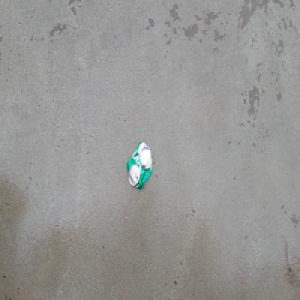SodaCan: (126, 140, 153, 191)
